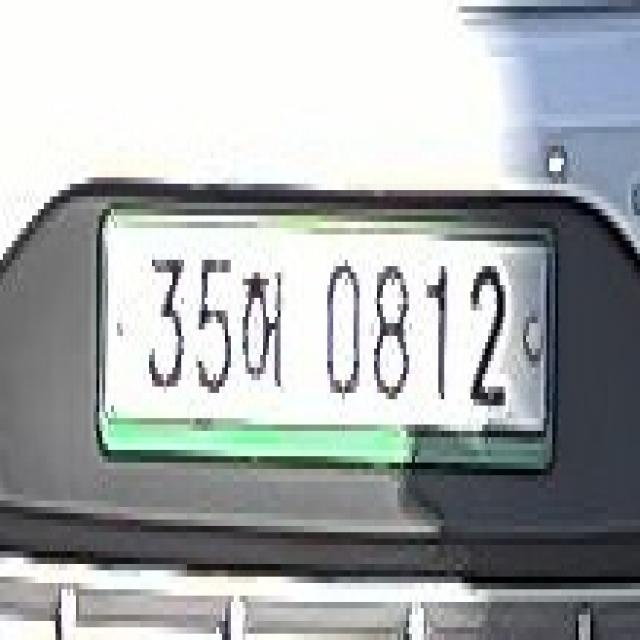0: (322, 254, 362, 399)
1: (424, 260, 450, 405)
2: (468, 260, 508, 412)
3: (146, 247, 187, 393)
5: (193, 254, 234, 399)
8: (371, 260, 412, 405)
heo: (236, 266, 284, 387)
license_plate: (97, 196, 552, 444)
